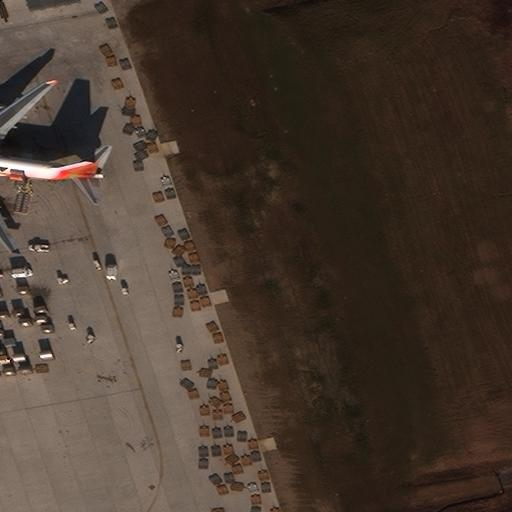Large Civil Transport: (0, 82, 103, 252)
